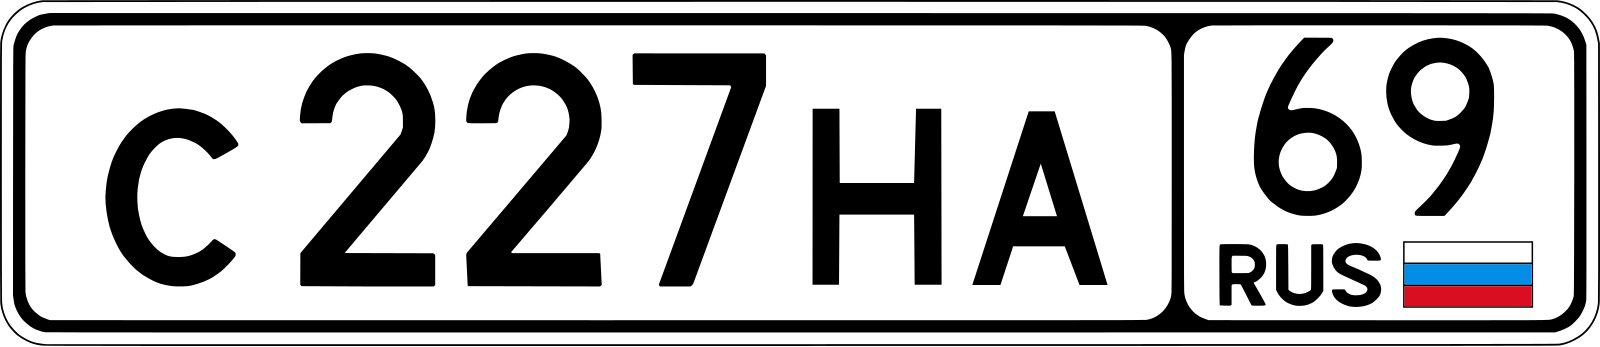number_plate: (17, 19, 1561, 298)
